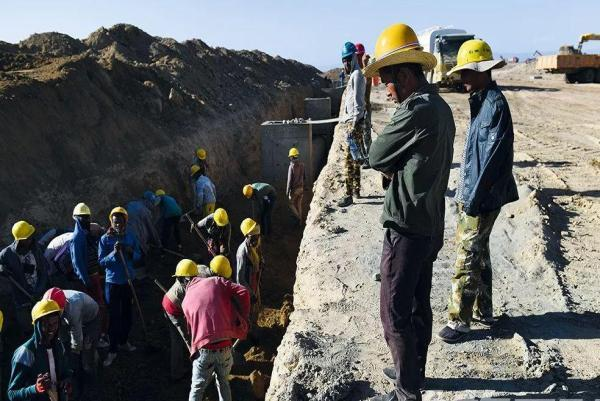helmet: (371, 23, 438, 78), (447, 39, 497, 78), (32, 300, 63, 324), (337, 41, 358, 64), (108, 205, 132, 224), (14, 223, 36, 243), (212, 257, 232, 277), (176, 261, 198, 279), (140, 189, 159, 207), (215, 209, 231, 229), (244, 220, 260, 237), (352, 41, 366, 60), (75, 204, 91, 219), (190, 161, 204, 178), (242, 186, 259, 200), (155, 189, 168, 199), (198, 149, 209, 160), (288, 148, 299, 159)
